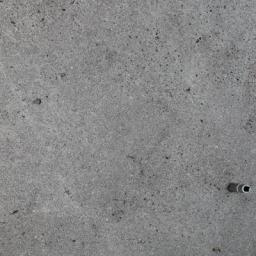FOD: (225, 178, 256, 200)
